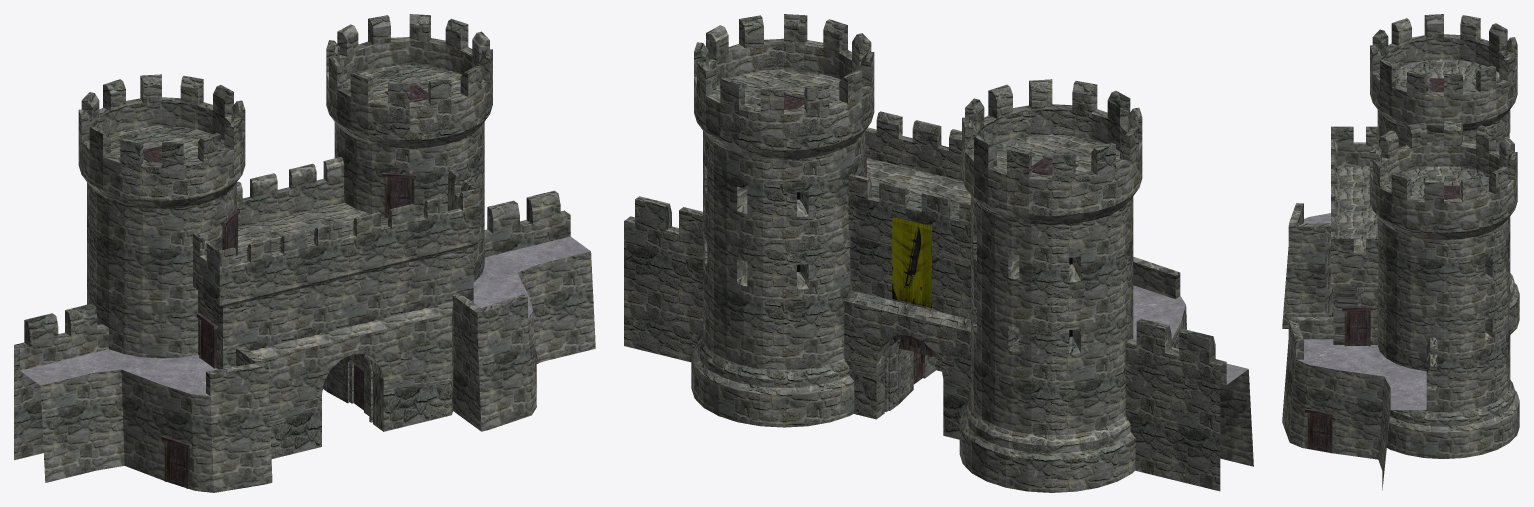
Rendered from gatehouse.glb.
3 renders of one model, left to right at view 1: azimuth 30°, elevation 25°; view 2: azimuth 150°, elevation 25°; view 3: azimuth 270°, elevation 25°, orthographic. The views are drawn at different scales.
Parts seen in each view (by area): view 1: GateRight; view 2: GateRight; view 3: GateRight.
Part boxes in pixels (x1,y1,x2,y2): GateRight: (14, 14, 595, 492); GateRight: (624, 14, 1253, 492); GateRight: (1282, 14, 1519, 490).
Bounding box in the file's own units: 29.08 × 15.7 × 12.26.
Materials: 8 (8 with a texture image).
